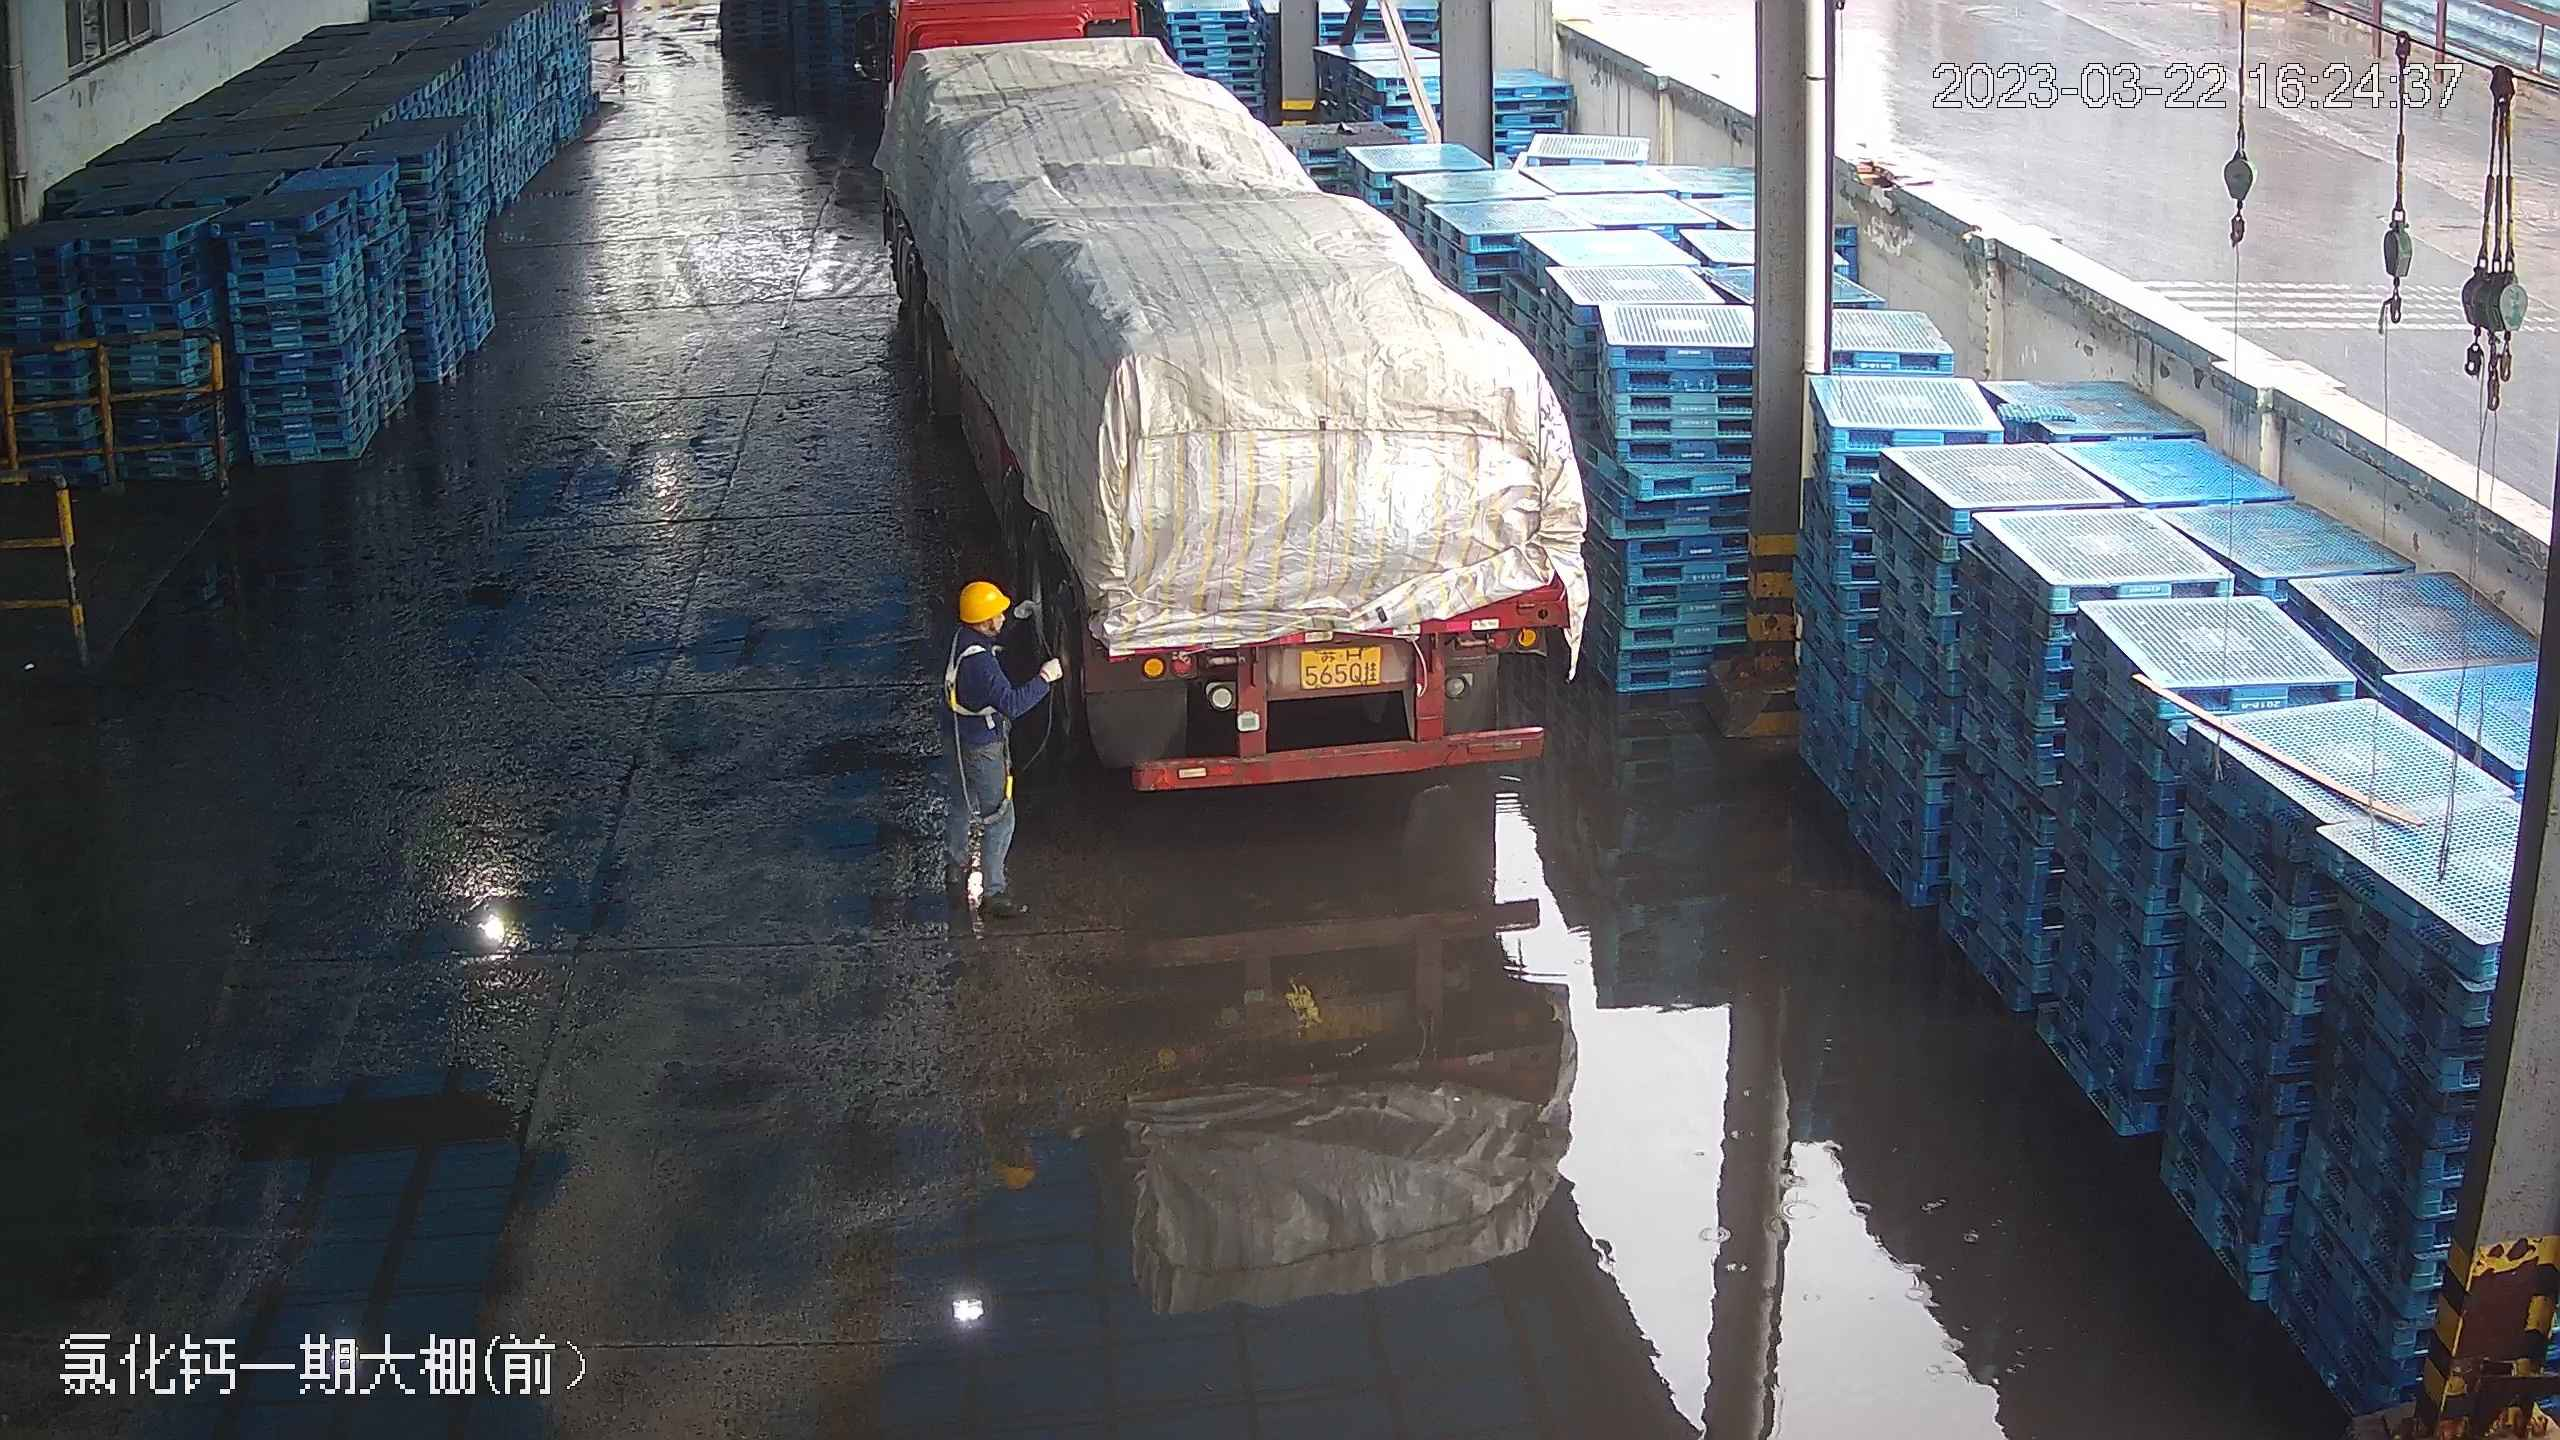belt: (943, 640, 1000, 718)
head: (945, 578, 1016, 667)
helmet: (958, 578, 1008, 621)
people: (945, 577, 1054, 869)
truck: (860, 6, 1613, 811)
